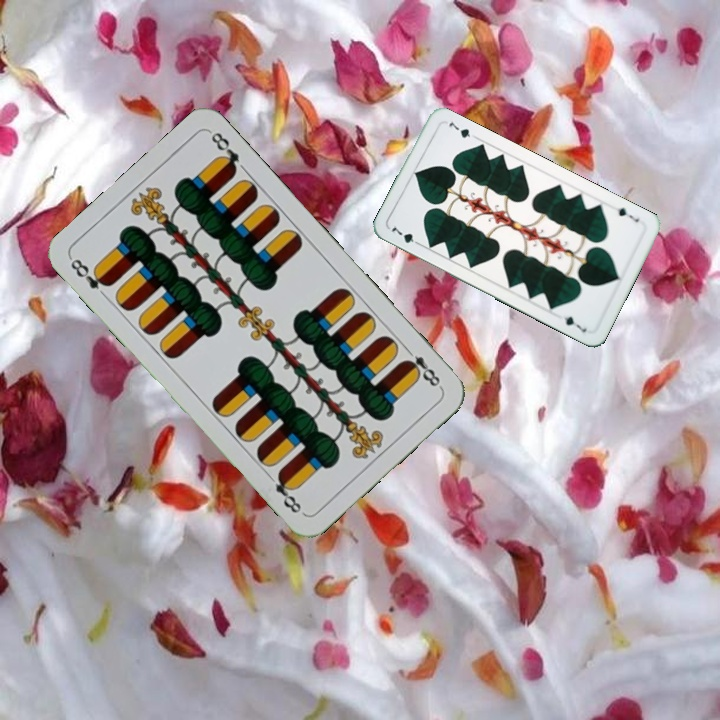E8: (399, 343, 444, 391), (66, 254, 114, 293)
G7: (387, 221, 424, 248), (610, 202, 642, 225)
